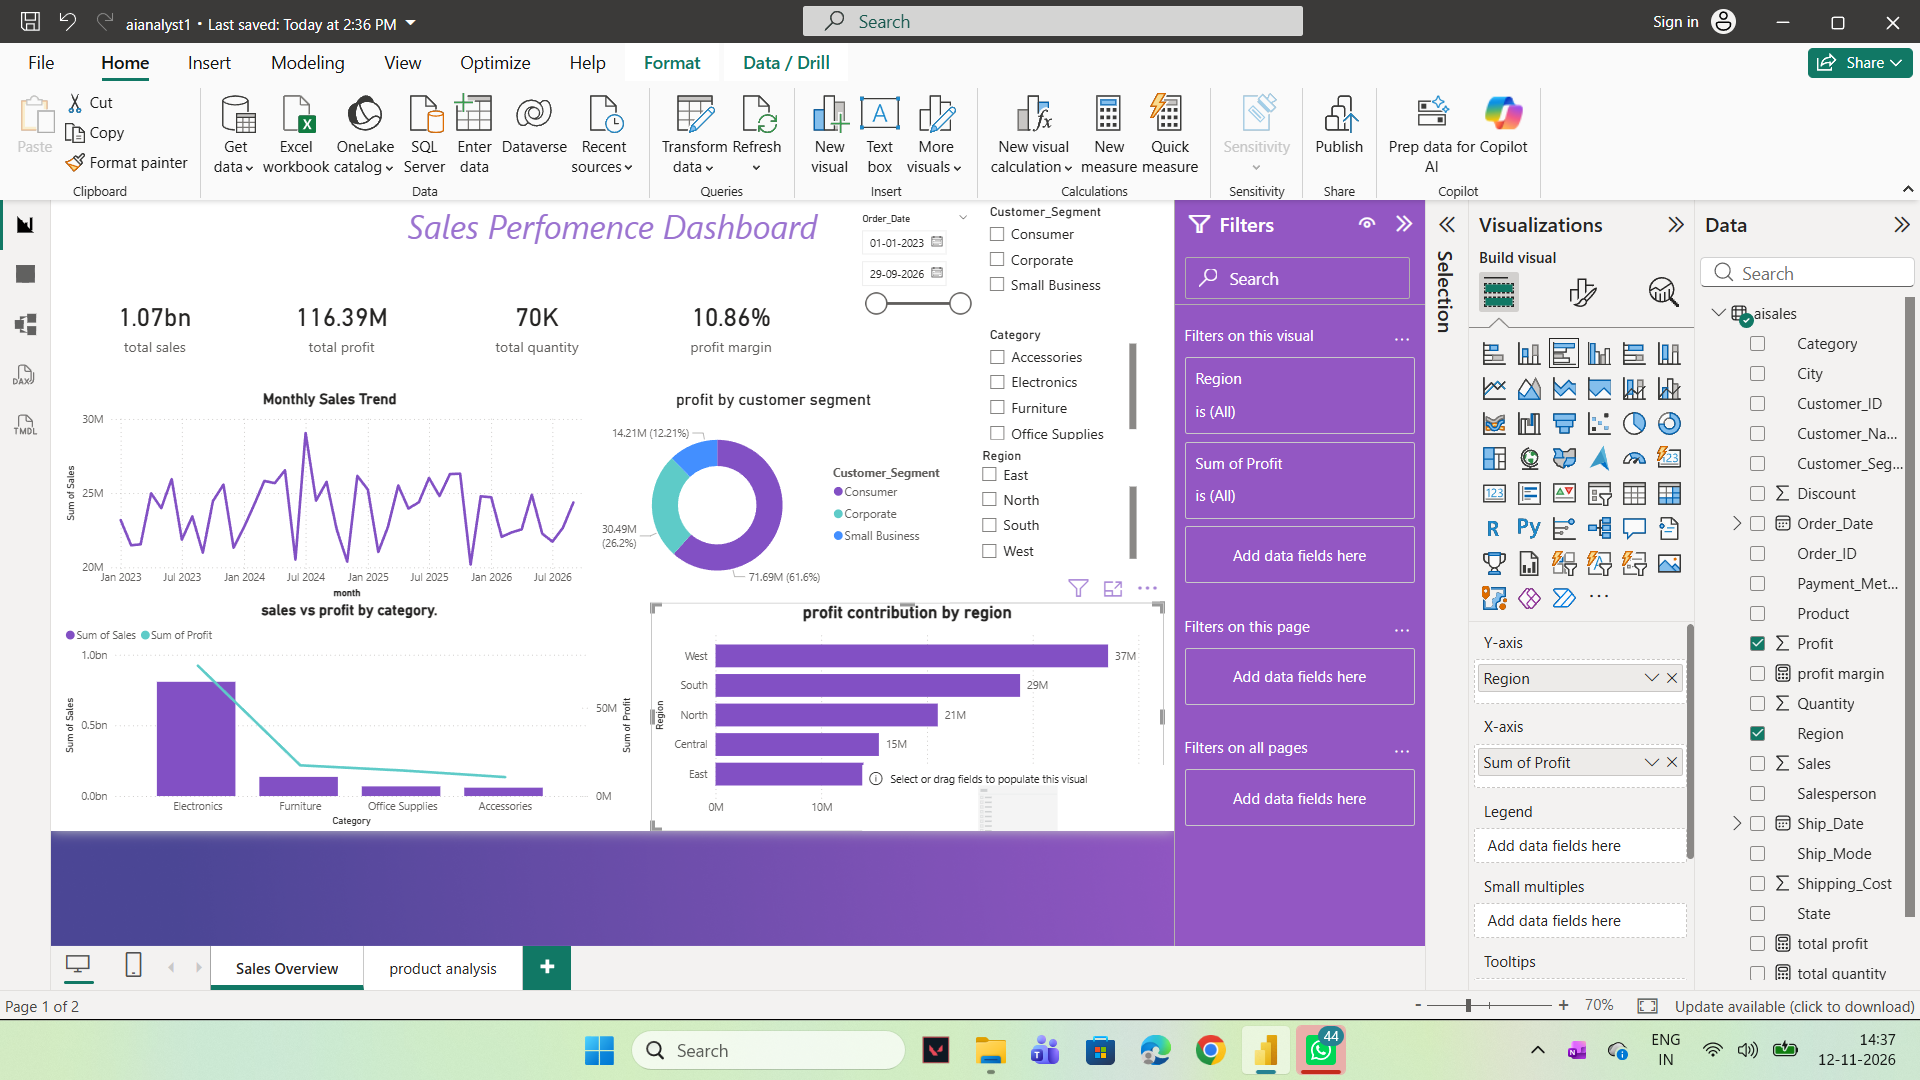

This screenshot's page, from the dashboard's own definition file:
{"tool":"powerbi","page":{"name":"Sales Overview","canvas":[1280,720],"ordinal":0},"visuals":[{"type":"card","fields":{"Values":["aisales.total sales"]},"box":[12.3,70,211.3,145.5],"z":0},{"type":"card","fields":{"Values":["aisales.total profit"]},"box":[223.7,70,215.4,145.5],"z":1},{"type":"card","fields":{"Values":["aisales.total quantity"]},"box":[439.1,70,230.5,145.5],"z":2},{"type":"card","fields":{"Values":["aisales.profit margin"]},"box":[669.6,70,211.3,145.5],"z":3},{"type":"lineChart","title":"Monthly Sales Trend","fields":{"Y":["Sum(aisales.Sales)"],"Category":["aisales.Order_Date.Variation.Date Hierarchy.Year","aisales.Order_Date.Variation.Date Hierarchy.Quarter","aisales.Order_Date.Variation.Date Hierarchy.Month","aisales.Order_Date.Variation.Date Hierarchy.Day"]},"box":[12.8,216.7,610.1,242.3],"z":4},{"type":"lineClusteredColumnComboChart","title":"sales vs profit by category.","fields":{"Category":["aisales.Category"],"Y":["Sum(aisales.Sales)"],"Y2":["Sum(aisales.Profit)"]},"box":[11.9,457.9,657,262.1],"z":5},{"type":"clusteredBarChart","title":"profit contribution by region","fields":{"Category":["aisales.Region"],"Y":["Sum(aisales.Profit)"]},"box":[684.7,458.3,584.6,262.1],"z":6},{"type":"donutChart","title":"profit by customer segment","fields":{"Category":["aisales.Customer_Segment"],"Y":["Sum(aisales.Profit)"]},"box":[622.9,216.7,402,242.3],"z":7},{"type":"textbox","box":[0,0,1280.3,70],"z":8},{"type":"slicer","fields":{"Values":["aisales.Region"]},"box":[1049.1,278,193.9,138.3],"z":9},{"type":"slicer","fields":{"Values":["aisales.Category"]},"box":[1057.6,139.7,185.3,138.3],"z":10},{"type":"slicer","box":[925.1,644.3,354.9,75.5],"z":11},{"type":"slicer","fields":{"Values":["aisales.Customer_Segment"]},"box":[1057.6,0,211,139.7],"z":12},{"type":"slicer","fields":{"Values":["aisales.Order_Date"]},"box":[912.2,10,145.4,176.7],"z":13}]}

Visuals, with their boxes on the page's 1280x720 design canvas (x1, y1, x2, y2). These are canvas units, not pixel positions in the 1920x1080 screenshot, which may show the page scaled, cropped or inside an application window:
card - aisales.total sales: 12, 70, 224, 216
card - aisales.total profit: 224, 70, 439, 216
card - aisales.total quantity: 439, 70, 670, 216
card - aisales.profit margin: 670, 70, 881, 216
"Monthly Sales Trend" lineChart: 13, 217, 623, 459
"sales vs profit by category." lineClusteredColumnComboChart: 12, 458, 669, 720
"profit contribution by region" clusteredBarChart: 685, 458, 1269, 720
"profit by customer segment" donutChart: 623, 217, 1025, 459
textbox: 0, 0, 1280, 70
slicer - aisales.Region: 1049, 278, 1243, 416
slicer - aisales.Category: 1058, 140, 1243, 278
slicer: 925, 644, 1280, 720
slicer - aisales.Customer_Segment: 1058, 0, 1269, 140
slicer - aisales.Order_Date: 912, 10, 1058, 187
